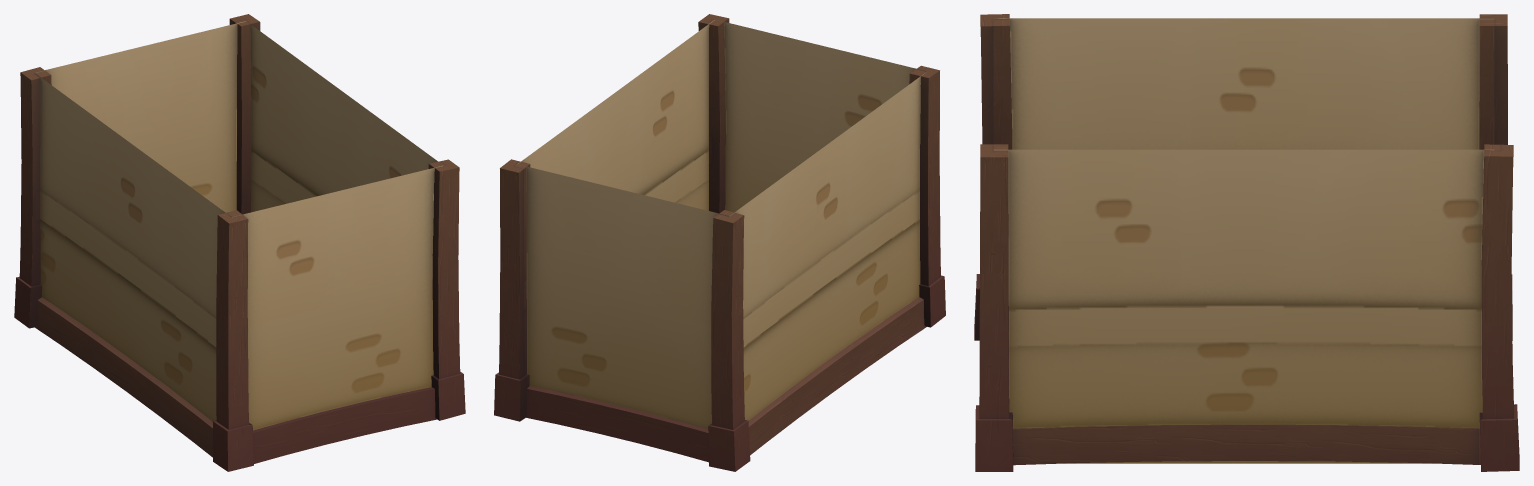
The model's file is Modular 1.FBX.
3 renders of one model, left to right at view 1: azimuth 30°, elevation 25°; view 2: azimuth 150°, elevation 25°; view 3: azimuth 270°, elevation 25°, orthographic. The views are drawn at different scales.
Parts seen in each view (by area): view 1: Box530; view 2: Box530; view 3: Box530.
Boxes of the visible parts, bbox=[...] form: Box530: bbox=[14, 14, 465, 471]; Box530: bbox=[494, 14, 945, 471]; Box530: bbox=[974, 14, 1519, 471].
Bounding box in the file's own units: 17.58 × 17.52 × 27.27.
